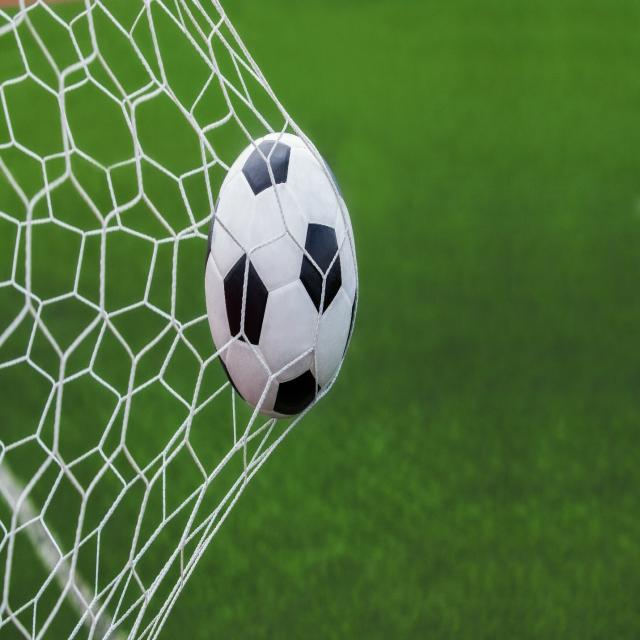soccer ball: (205, 132, 358, 418)
